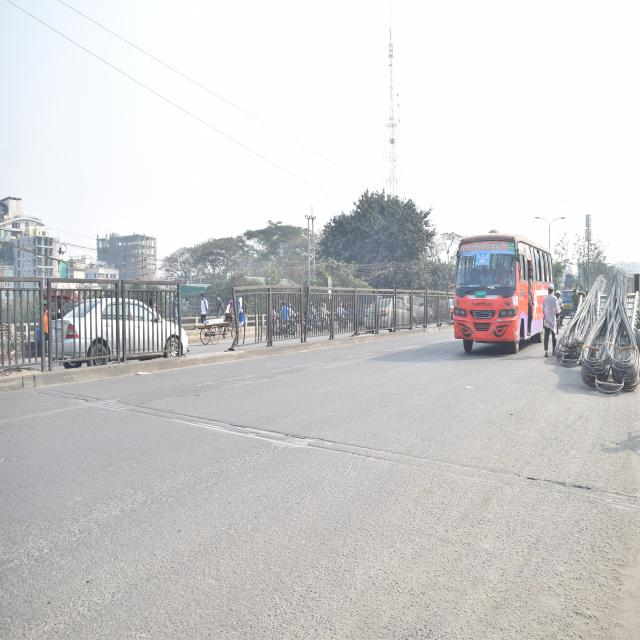bus: (451, 220, 553, 367)
car: (49, 284, 187, 378)
